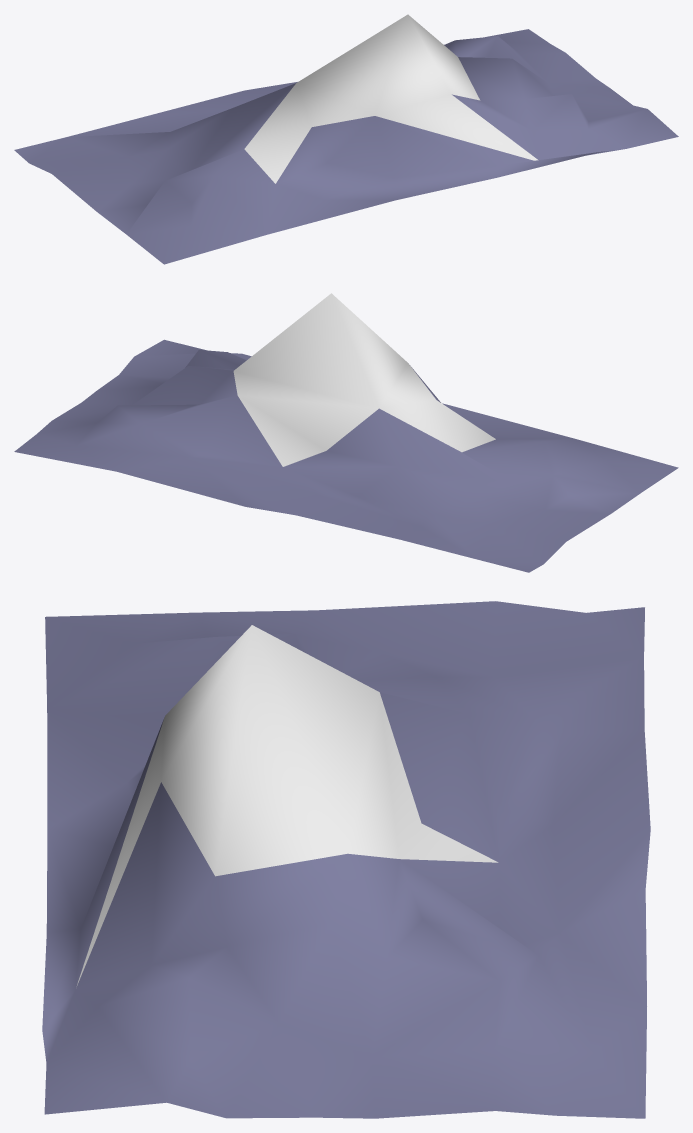
File: Mountain1.fbx
3 renders of one model, top to bottom at view 1: azimuth 30°, elevation 25°; view 2: azimuth 150°, elevation 25°; view 3: azimuth 270°, elevation 25°, orthographic. The views are drawn at different scales.
Visible parts, largest first — view 1: Mountain1; view 2: Mountain1; view 3: Mountain1.
Part boxes in pixels (x1=…): Mountain1: x1=14, y1=14, x2=678, y2=264; Mountain1: x1=14, y1=293, x2=678, y2=572; Mountain1: x1=42, y1=601, x2=650, y2=1118.
Bounding box in the file's own units: 401 × 105 × 205.
